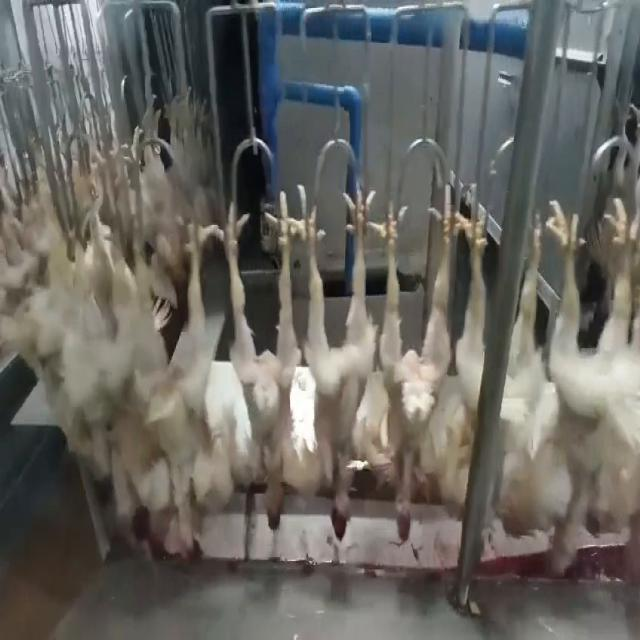chicken: (546, 182, 639, 592), (374, 189, 466, 547), (305, 180, 382, 546), (147, 210, 226, 563), (227, 182, 302, 532), (99, 229, 148, 544)
